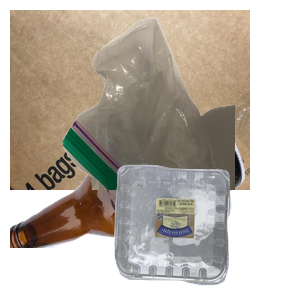cardboard: (10, 10, 250, 190)
glass: (10, 120, 247, 300)
plastic: (112, 162, 300, 300)
trash: (60, 14, 300, 194)
